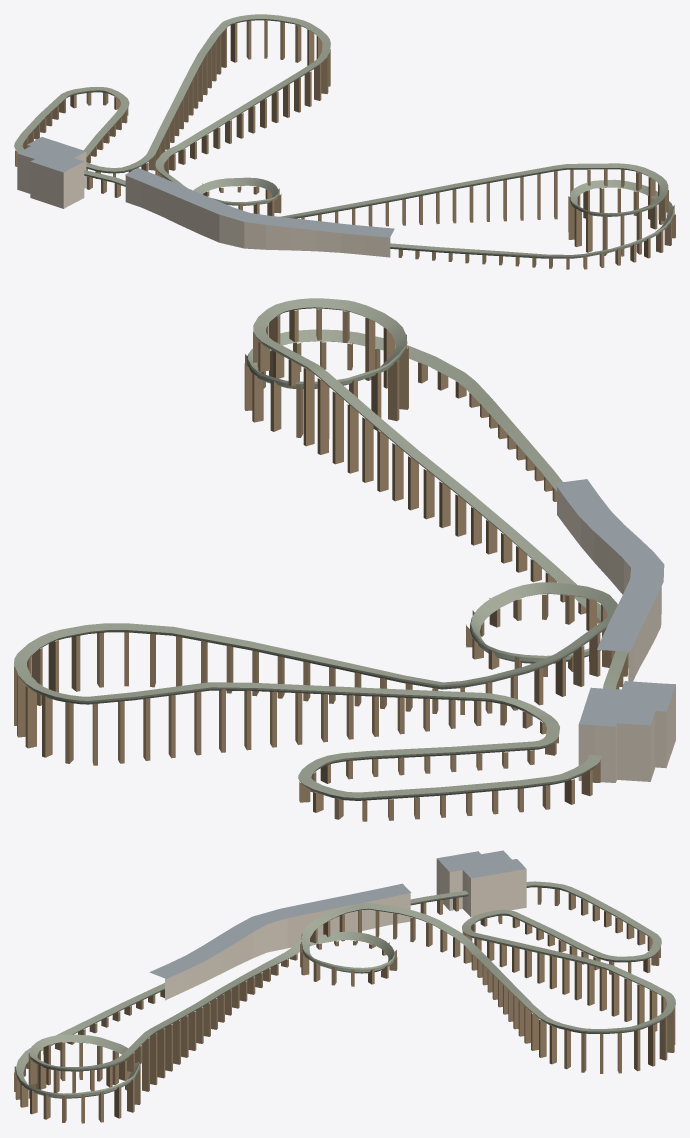
3 views of the same model, one above another, from view 1: azimuth 30°, elevation 25°; view 2: azimuth 150°, elevation 25°; view 3: azimuth 270°, elevation 25° (orthographic). The views are drawn at different scales.
Parts seen in each view (by area): view 1: carolina-goldrusher-carowinds; view 2: carolina-goldrusher-carowinds; view 3: carolina-goldrusher-carowinds.
Boxes of the visible parts, box(x1,y1,x2,y2) form: carolina-goldrusher-carowinds: box(14, 14, 675, 269); carolina-goldrusher-carowinds: box(14, 298, 675, 821); carolina-goldrusher-carowinds: box(14, 850, 675, 1123).
Bounding box in the file's own units: 123 × 13.98 × 146.
